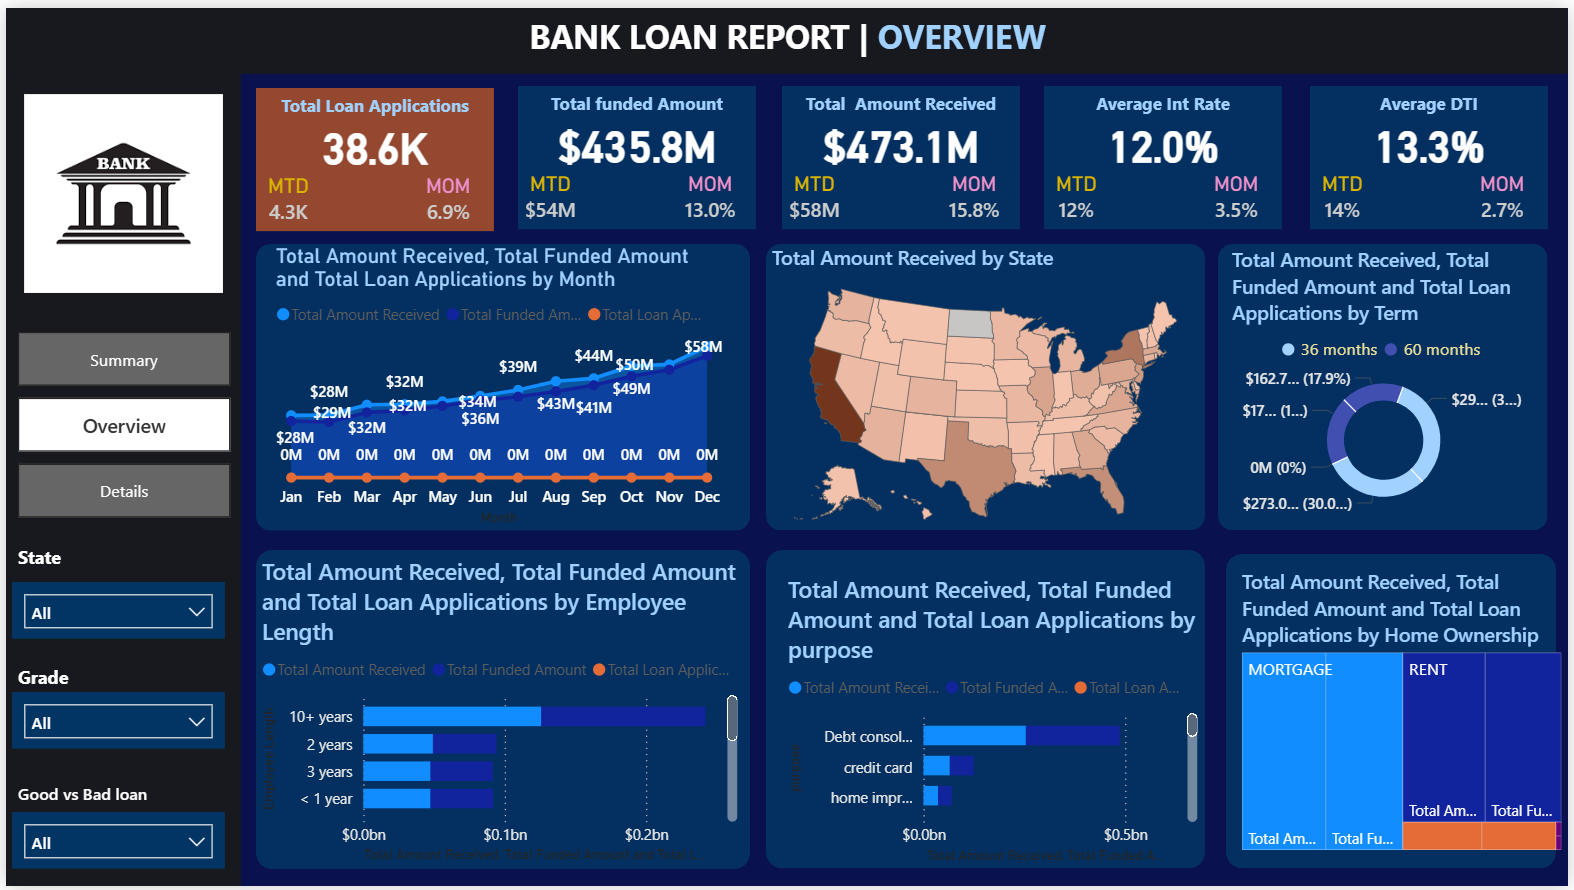

What the dashboard file says about the page in this screenshot:
{"tool":"powerbi","page":{"name":"Overview","canvas":[1280,720],"ordinal":1},"visuals":[{"type":"shape","box":[0,0,1280,54],"z":0},{"type":"shape","box":[420.1,64.3,195.1,117.3],"z":0,"group":"g4"},{"type":"shape","box":[636.6,64.3,195.1,117.3],"z":0,"group":"g3"},{"type":"shape","box":[851.6,64.3,195.1,117.3],"z":0,"group":"g6"},{"type":"shape","box":[1068.1,64.3,195.1,117.3],"z":0,"group":"g7"},{"type":"shape","box":[204.7,64.8,195.1,117.3],"z":0,"group":"g1"},{"type":"shape","box":[0,54,192.5,665.7],"z":1000},{"type":"card","fields":{"Values":["financial_loan.Total Funded Amount"]},"box":[420.4,86.7,195.1,47.5],"z":1000,"group":"g4"},{"type":"card","fields":{"Values":["financial_loan.Total Amount Received"]},"box":[636.6,86.7,195.1,47.5],"z":1000,"group":"g3"},{"type":"card","fields":{"Values":["financial_loan.Avg Interest Rate"]},"box":[851.6,86.7,195.1,47.5],"z":1000,"group":"g6"},{"type":"card","fields":{"Values":["financial_loan.Avg DTI"]},"box":[1068.1,86.7,195.1,47.5],"z":1000,"group":"g7"},{"type":"card","fields":{"Values":["financial_loan.Total Loan Applications"]},"box":[204.7,87.2,195.1,47.5],"z":1000,"group":"g1"},{"type":"textbox","box":[420.4,64.3,195.1,46.1],"z":2000,"group":"g4"},{"type":"textbox","box":[636.6,64.3,195.1,46.1],"z":2000,"group":"g3"},{"type":"textbox","box":[851.6,64.3,195.1,46.1],"z":2000,"group":"g6"},{"type":"textbox","box":[1068.1,64.3,195.1,46.1],"z":2000,"group":"g7"},{"type":"textbox","box":[204.7,64.8,195.1,46.1],"z":2000,"group":"g1"},{"type":"shape","box":[204.2,193.8,405,235],"z":2000},{"type":"textbox","box":[416.3,0,448.2,76.2],"z":3000},{"type":"card","title":"MTD","fields":{"Values":["financial_loan.MTD Funded Amount"]},"box":[420.4,134.2,52.7,47.5],"z":3000,"group":"g4"},{"type":"card","title":"MTD","fields":{"Values":["financial_loan.MTD Total Amount Received"]},"box":[636.6,134.2,52.7,47.5],"z":3000,"group":"g3"},{"type":"card","title":"MTD","fields":{"Values":["financial_loan.MTD Average Int Rate"]},"box":[851.6,134.2,52.7,47.5],"z":3000,"group":"g6"},{"type":"card","title":"MTD","fields":{"Values":["financial_loan.MTD Average DTI"]},"box":[1068.1,134.2,52.7,47.5],"z":3000,"group":"g7"},{"type":"card","title":"MTD","fields":{"Values":["financial_loan.MTD Loan Applications"]},"box":[204.7,134.7,52.7,47.5],"z":3000,"group":"g1"},{"type":"group","id":"g1","title":"Group 1","box":[204.7,64.8,194.5,117.2],"z":4000},{"type":"card","title":"MOM","fields":{"Values":["financial_loan.MOM Total Funded Amount"]},"box":[550.9,134.2,52.7,47.5],"z":4000,"group":"g4"},{"type":"card","title":"MOM","fields":{"Values":["financial_loan.MOM Total Amount Recieved"]},"box":[767.1,134.2,52.7,47.5],"z":4000,"group":"g3"},{"type":"card","title":"MOM","fields":{"Values":["financial_loan.MOM Average Int Rate"]},"box":[982.1,134.2,52.7,47.5],"z":4000,"group":"g6"},{"type":"card","title":"MOM","fields":{"Values":["financial_loan.MOM Average dti"]},"box":[1198.6,134.2,52.7,47.5],"z":4000,"group":"g7"},{"type":"card","title":"MOM","fields":{"Values":["financial_loan.MOM Loan Application"]},"box":[335.2,134.7,52.7,47.5],"z":4000,"group":"g1"},{"type":"group","id":"g2","title":"Group 1","box":[420.1,64.3,195.8,116.9],"z":5000},{"type":"group","id":"g3","title":"Group 3","box":[636.6,64.3,195.1,117.3],"z":5001,"group":"g5"},{"type":"group","id":"g4","title":"Group 2","box":[420.1,64.3,195.4,117.3],"z":5005,"group":"g2"},{"type":"group","id":"g5","title":"Group 2","box":[636.6,64.3,194.3,116.9],"z":6000},{"type":"group","id":"g6","title":"Group 3","box":[851.6,64.3,195.8,116.9],"z":7000},{"type":"group","id":"g7","title":"Group 3","box":[1068.1,64.3,194.3,118.4],"z":8000},{"type":"slicer","fields":{"Values":["financial_loan.address_state"]},"box":[4.6,470.4,174.3,46.3],"z":9000},{"type":"textbox","box":[4.6,434.9,91,29.3],"z":10000},{"type":"slicer","fields":{"Values":["financial_loan.grade"]},"box":[4.6,561.3,174.3,46.3],"z":11000},{"type":"slicer","fields":{"Values":["financial_loan.Good loan VS Bad loan"]},"box":[4.6,658.5,174.3,46.3],"z":12000},{"type":"textbox","box":[4.6,532,91,29.3],"z":13000},{"type":"textbox","box":[5.3,628.8,138.4,30.3],"z":14000},{"type":"areaChart","fields":{"Y":["financial_loan.Total Amount Received","financial_loan.Total Funded Amount","financial_loan.Total Loan Applications"],"Category":["Date Table.Month"]},"box":[216.2,193.8,375.7,234.6],"z":15000},{"type":"shape","box":[622.2,193.8,359.9,234.6],"z":18000},{"type":"shapeMap","fields":{"Value":["financial_loan.Total Amount Received"],"Category":["financial_loan.address_state"]},"box":[622.2,193.8,359.9,241.2],"z":19000},{"type":"shape","box":[992.6,193.8,270.2,234.6],"z":20000},{"type":"donutChart","fields":{"Y":["financial_loan.Total Amount Received","financial_loan.Total Funded Amount","financial_loan.Total Loan Applications"],"Category":["financial_loan.term"]},"box":[999.2,195.1,258.4,224.1],"z":21000},{"type":"shape","box":[204.7,443.6,404.9,261.6],"z":22000},{"type":"barChart","fields":{"Y":["financial_loan.Total Amount Received","financial_loan.Total Funded Amount","financial_loan.Total Loan Applications"],"Category":["financial_loan.emp_length"]},"box":[204.3,449.5,399.4,255.7],"z":23000},{"type":"shape","box":[622.2,444.2,359.9,261],"z":24000},{"type":"barChart","fields":{"Y":["financial_loan.Total Amount Received","financial_loan.Total Funded Amount","financial_loan.Total Loan Applications"],"Category":["financial_loan.purpose"]},"box":[636.7,464,345.4,241.2],"z":25000},{"type":"shape","box":[999.7,447.2,270.6,257.6],"z":26000},{"type":"treemap","fields":{"Values":["financial_loan.Total Amount Received","financial_loan.Total Funded Amount","financial_loan.Total Loan Applications"],"Group":["financial_loan.home_ownership"]},"box":[1008.4,458.7,271.6,236],"z":27000},{"type":"pageNavigator","box":[9.1,266.2,174,153.6],"z":28000},{"type":"image","box":[10.2,64.8,172.9,172.9],"z":29000}]}

Visuals, with their boxes in screenshot pixels (x1, y1, x2, y2), scaled from the page's 1280x720 canvas onto the 1574x890 screenshot:
shape: x1=0 y1=0 x2=1573 y2=67
shape: x1=517 y1=79 x2=757 y2=224
shape: x1=783 y1=79 x2=1023 y2=224
shape: x1=1047 y1=79 x2=1287 y2=224
shape: x1=1313 y1=79 x2=1553 y2=224
shape: x1=252 y1=80 x2=492 y2=225
shape: x1=0 y1=67 x2=237 y2=889
card - financial_loan.Total Funded Amount: x1=517 y1=107 x2=757 y2=166
card - financial_loan.Total Amount Received: x1=783 y1=107 x2=1023 y2=166
card - financial_loan.Avg Interest Rate: x1=1047 y1=107 x2=1287 y2=166
card - financial_loan.Avg DTI: x1=1313 y1=107 x2=1553 y2=166
card - financial_loan.Total Loan Applications: x1=252 y1=108 x2=492 y2=167
textbox: x1=517 y1=79 x2=757 y2=136
textbox: x1=783 y1=79 x2=1023 y2=136
textbox: x1=1047 y1=79 x2=1287 y2=136
textbox: x1=1313 y1=79 x2=1553 y2=136
textbox: x1=252 y1=80 x2=492 y2=137
shape: x1=251 y1=240 x2=749 y2=530
textbox: x1=512 y1=0 x2=1063 y2=94
"MTD" card: x1=517 y1=166 x2=582 y2=225
"MTD" card: x1=783 y1=166 x2=848 y2=225
"MTD" card: x1=1047 y1=166 x2=1112 y2=225
"MTD" card: x1=1313 y1=166 x2=1378 y2=225
"MTD" card: x1=252 y1=167 x2=317 y2=225
"Group 1" group: x1=252 y1=80 x2=491 y2=225
"MOM" card: x1=677 y1=166 x2=742 y2=225
"MOM" card: x1=943 y1=166 x2=1008 y2=225
"MOM" card: x1=1208 y1=166 x2=1272 y2=225
"MOM" card: x1=1474 y1=166 x2=1539 y2=225
"MOM" card: x1=412 y1=167 x2=477 y2=225
"Group 1" group: x1=517 y1=79 x2=757 y2=224
"Group 3" group: x1=783 y1=79 x2=1023 y2=224
"Group 2" group: x1=517 y1=79 x2=757 y2=224
"Group 2" group: x1=783 y1=79 x2=1022 y2=224
"Group 3" group: x1=1047 y1=79 x2=1288 y2=224
"Group 3" group: x1=1313 y1=79 x2=1552 y2=226
slicer - financial_loan.address_state: x1=6 y1=581 x2=220 y2=639
textbox: x1=6 y1=538 x2=118 y2=574
slicer - financial_loan.grade: x1=6 y1=694 x2=220 y2=751
slicer - financial_loan.Good loan VS Bad loan: x1=6 y1=814 x2=220 y2=871
textbox: x1=6 y1=658 x2=118 y2=694
textbox: x1=7 y1=777 x2=177 y2=815
areaChart - financial_loan.Total Amount Received x financial_loan.Total Funded Amount: x1=266 y1=240 x2=728 y2=530
shape: x1=765 y1=240 x2=1208 y2=530
shapeMap - financial_loan.Total Amount Received x financial_loan.address_state: x1=765 y1=240 x2=1208 y2=538
shape: x1=1221 y1=240 x2=1553 y2=530
donutChart - financial_loan.Total Amount Received x financial_loan.Total Funded Amount: x1=1229 y1=241 x2=1546 y2=518
shape: x1=252 y1=548 x2=750 y2=872
barChart - financial_loan.Total Amount Received x financial_loan.Total Funded Amount: x1=251 y1=556 x2=742 y2=872
shape: x1=765 y1=549 x2=1208 y2=872
barChart - financial_loan.Total Amount Received x financial_loan.Total Funded Amount: x1=783 y1=574 x2=1208 y2=872
shape: x1=1229 y1=553 x2=1562 y2=871
treemap - financial_loan.Total Amount Received x financial_loan.Total Funded Amount: x1=1240 y1=567 x2=1573 y2=859
pageNavigator: x1=11 y1=329 x2=225 y2=519
image: x1=13 y1=80 x2=225 y2=294
